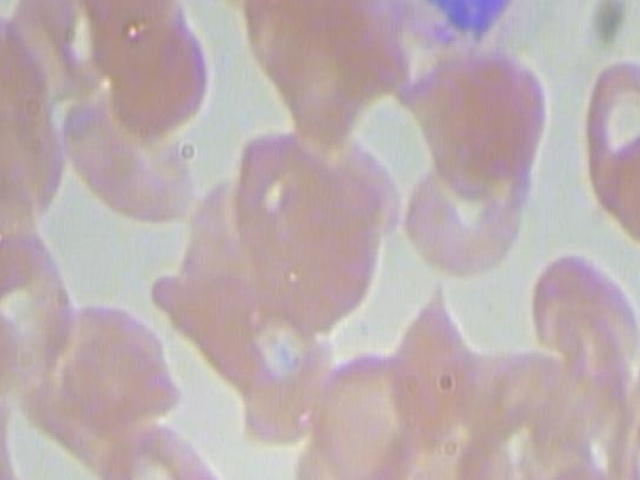RBC: (235, 157, 379, 337), (396, 45, 562, 194), (59, 78, 207, 229), (371, 284, 493, 453), (523, 243, 640, 412), (395, 142, 534, 284), (302, 331, 434, 480), (253, 0, 375, 159), (99, 0, 212, 144), (0, 236, 87, 407), (570, 53, 640, 227), (93, 405, 219, 480), (69, 0, 181, 47), (509, 449, 640, 480), (130, 459, 243, 480)
WBC: (275, 0, 614, 59)
